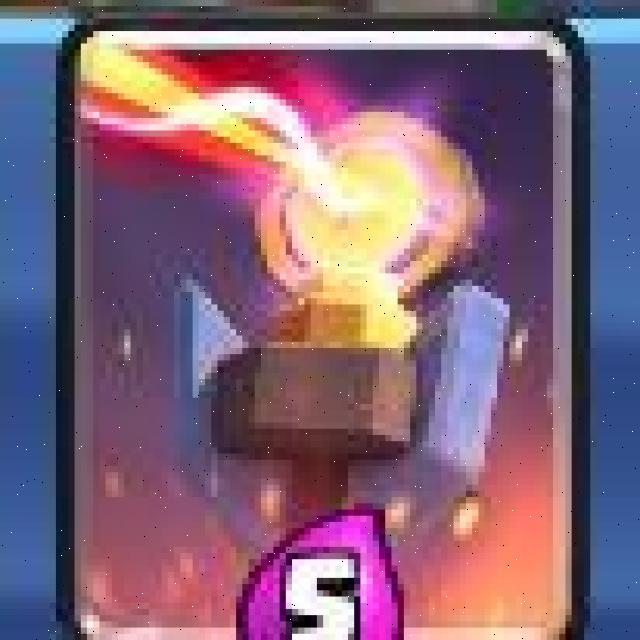Inferno_Tower: (60, 24, 590, 640)
